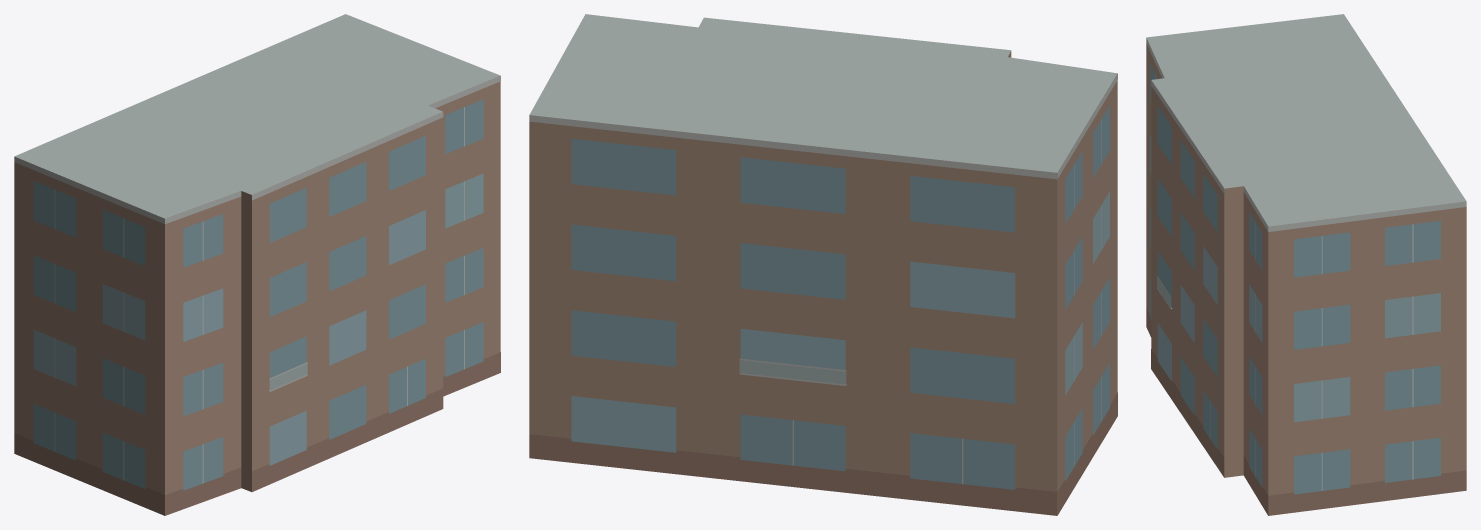
Rendered from survey-upis-32957790.glb.
3 views of the same model, side by side, from view 1: azimuth 30°, elevation 25°; view 2: azimuth 150°, elevation 25°; view 3: azimuth 270°, elevation 25° (orthographic). The views are drawn at different scales.
Parts seen in each view (by area): view 1: survey-upis-32957790.tmp; view 2: survey-upis-32957790.tmp; view 3: survey-upis-32957790.tmp.
Boxes of the visible parts, x1,y1,x2,y2 form: survey-upis-32957790.tmp: (14,14,500,515); survey-upis-32957790.tmp: (529,14,1117,515); survey-upis-32957790.tmp: (1146,14,1466,515).
Bounding box in the file's own units: 20.35 × 12.9 × 12.96.
